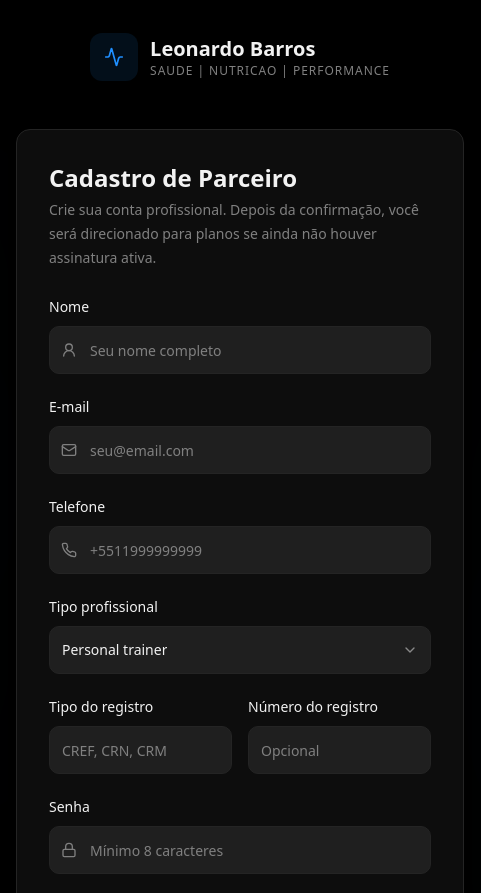
PartnerSignupView › exibe erro especifico de registro sem apagar dados preenchidos
This screenshot has width=481, height=893.
Type "Vinicius Ferrari" into the field labelled "Nome". click: (240,350)
box: [49,326,431,374]
Type "vinicius@example.com" into the field labelled "E-mail". click: (240,450)
box: [49,426,431,474]
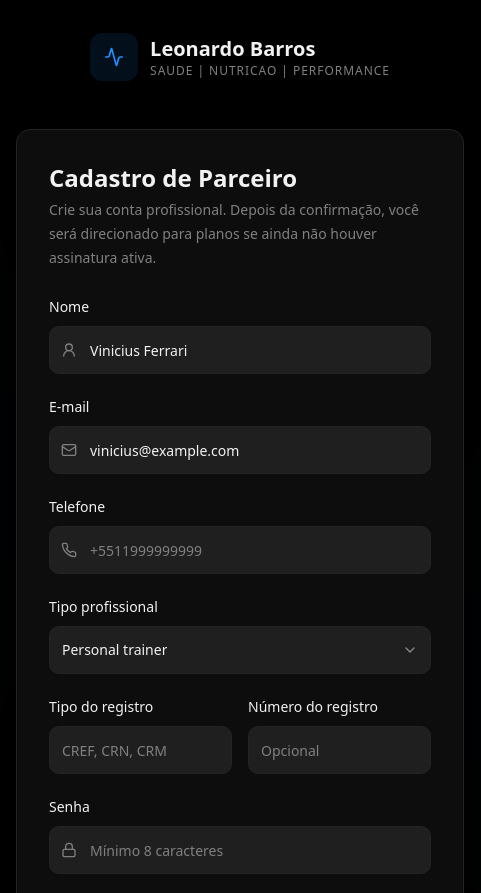
Type "+55119984222461" into the field labelled "Telefone". click: (240,550)
box: [49,526,431,574]
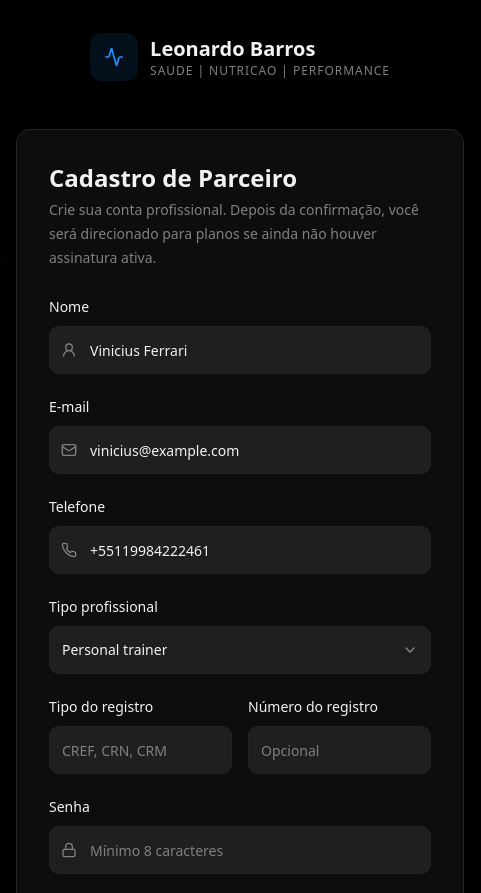
Type "123456-G/SP" into the field with placeholder "Opcional". click: (340,750)
box: [248,726,431,774]
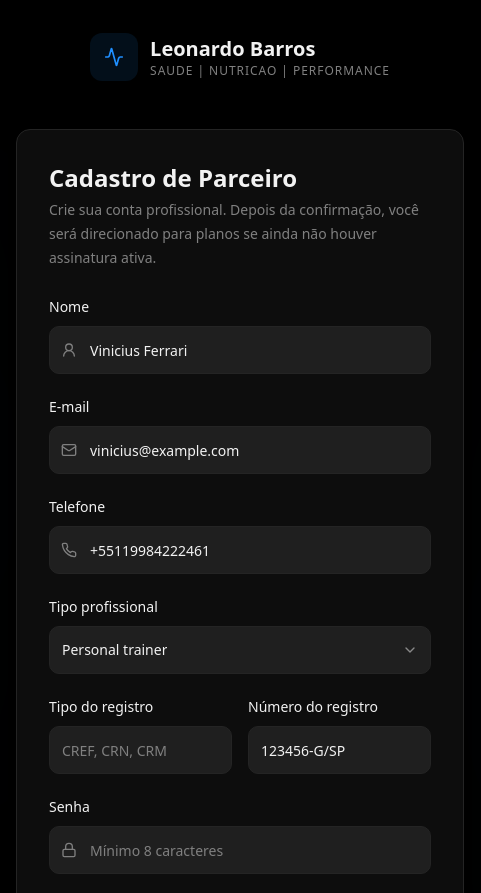
Type "senha-segura" into the password field labelled "Senha". click: (240,850)
box: [49,826,431,874]
(page scrolled)
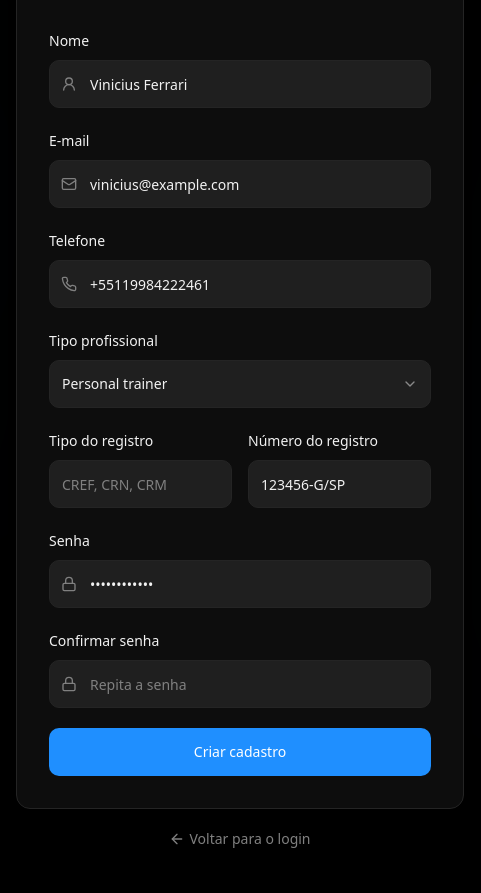
Type "senha-segura" into the password field labelled "Confirmar senha". click: (240,684)
box: [49,660,431,708]
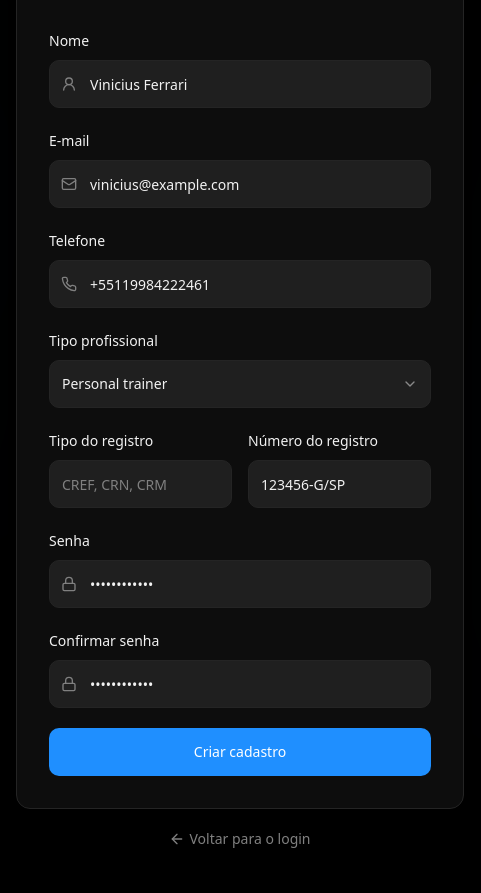
Submit the form
(page scrolled)
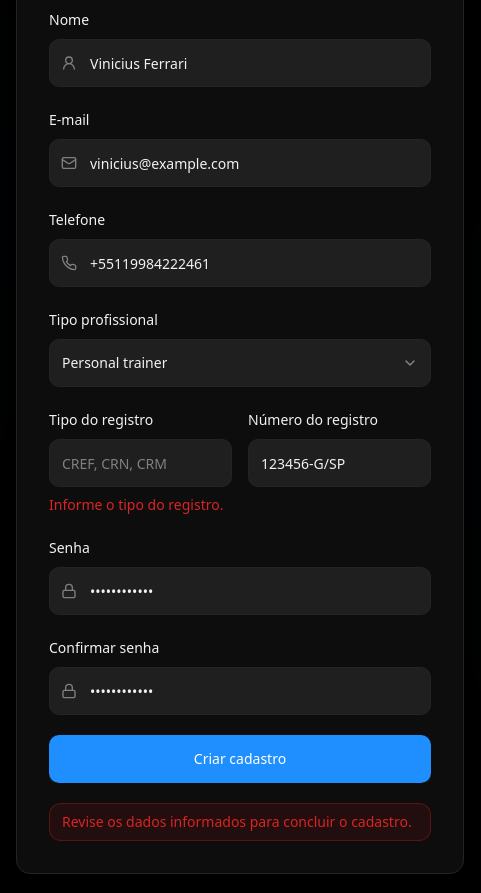
Now the text "Informe o tipo do registro." is shown, box [49,495,232,515]
Now the text "Revise os dados informados para concluir o cadastro." is shown, box [49,803,431,841]
